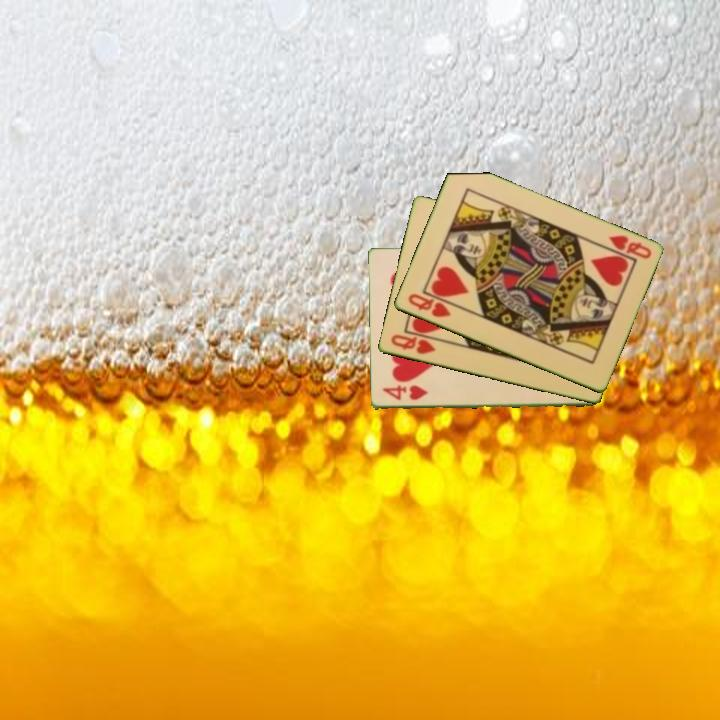4h: (379, 383, 431, 403)
Qh: (404, 290, 453, 321), (604, 232, 654, 262), (387, 331, 438, 358)
